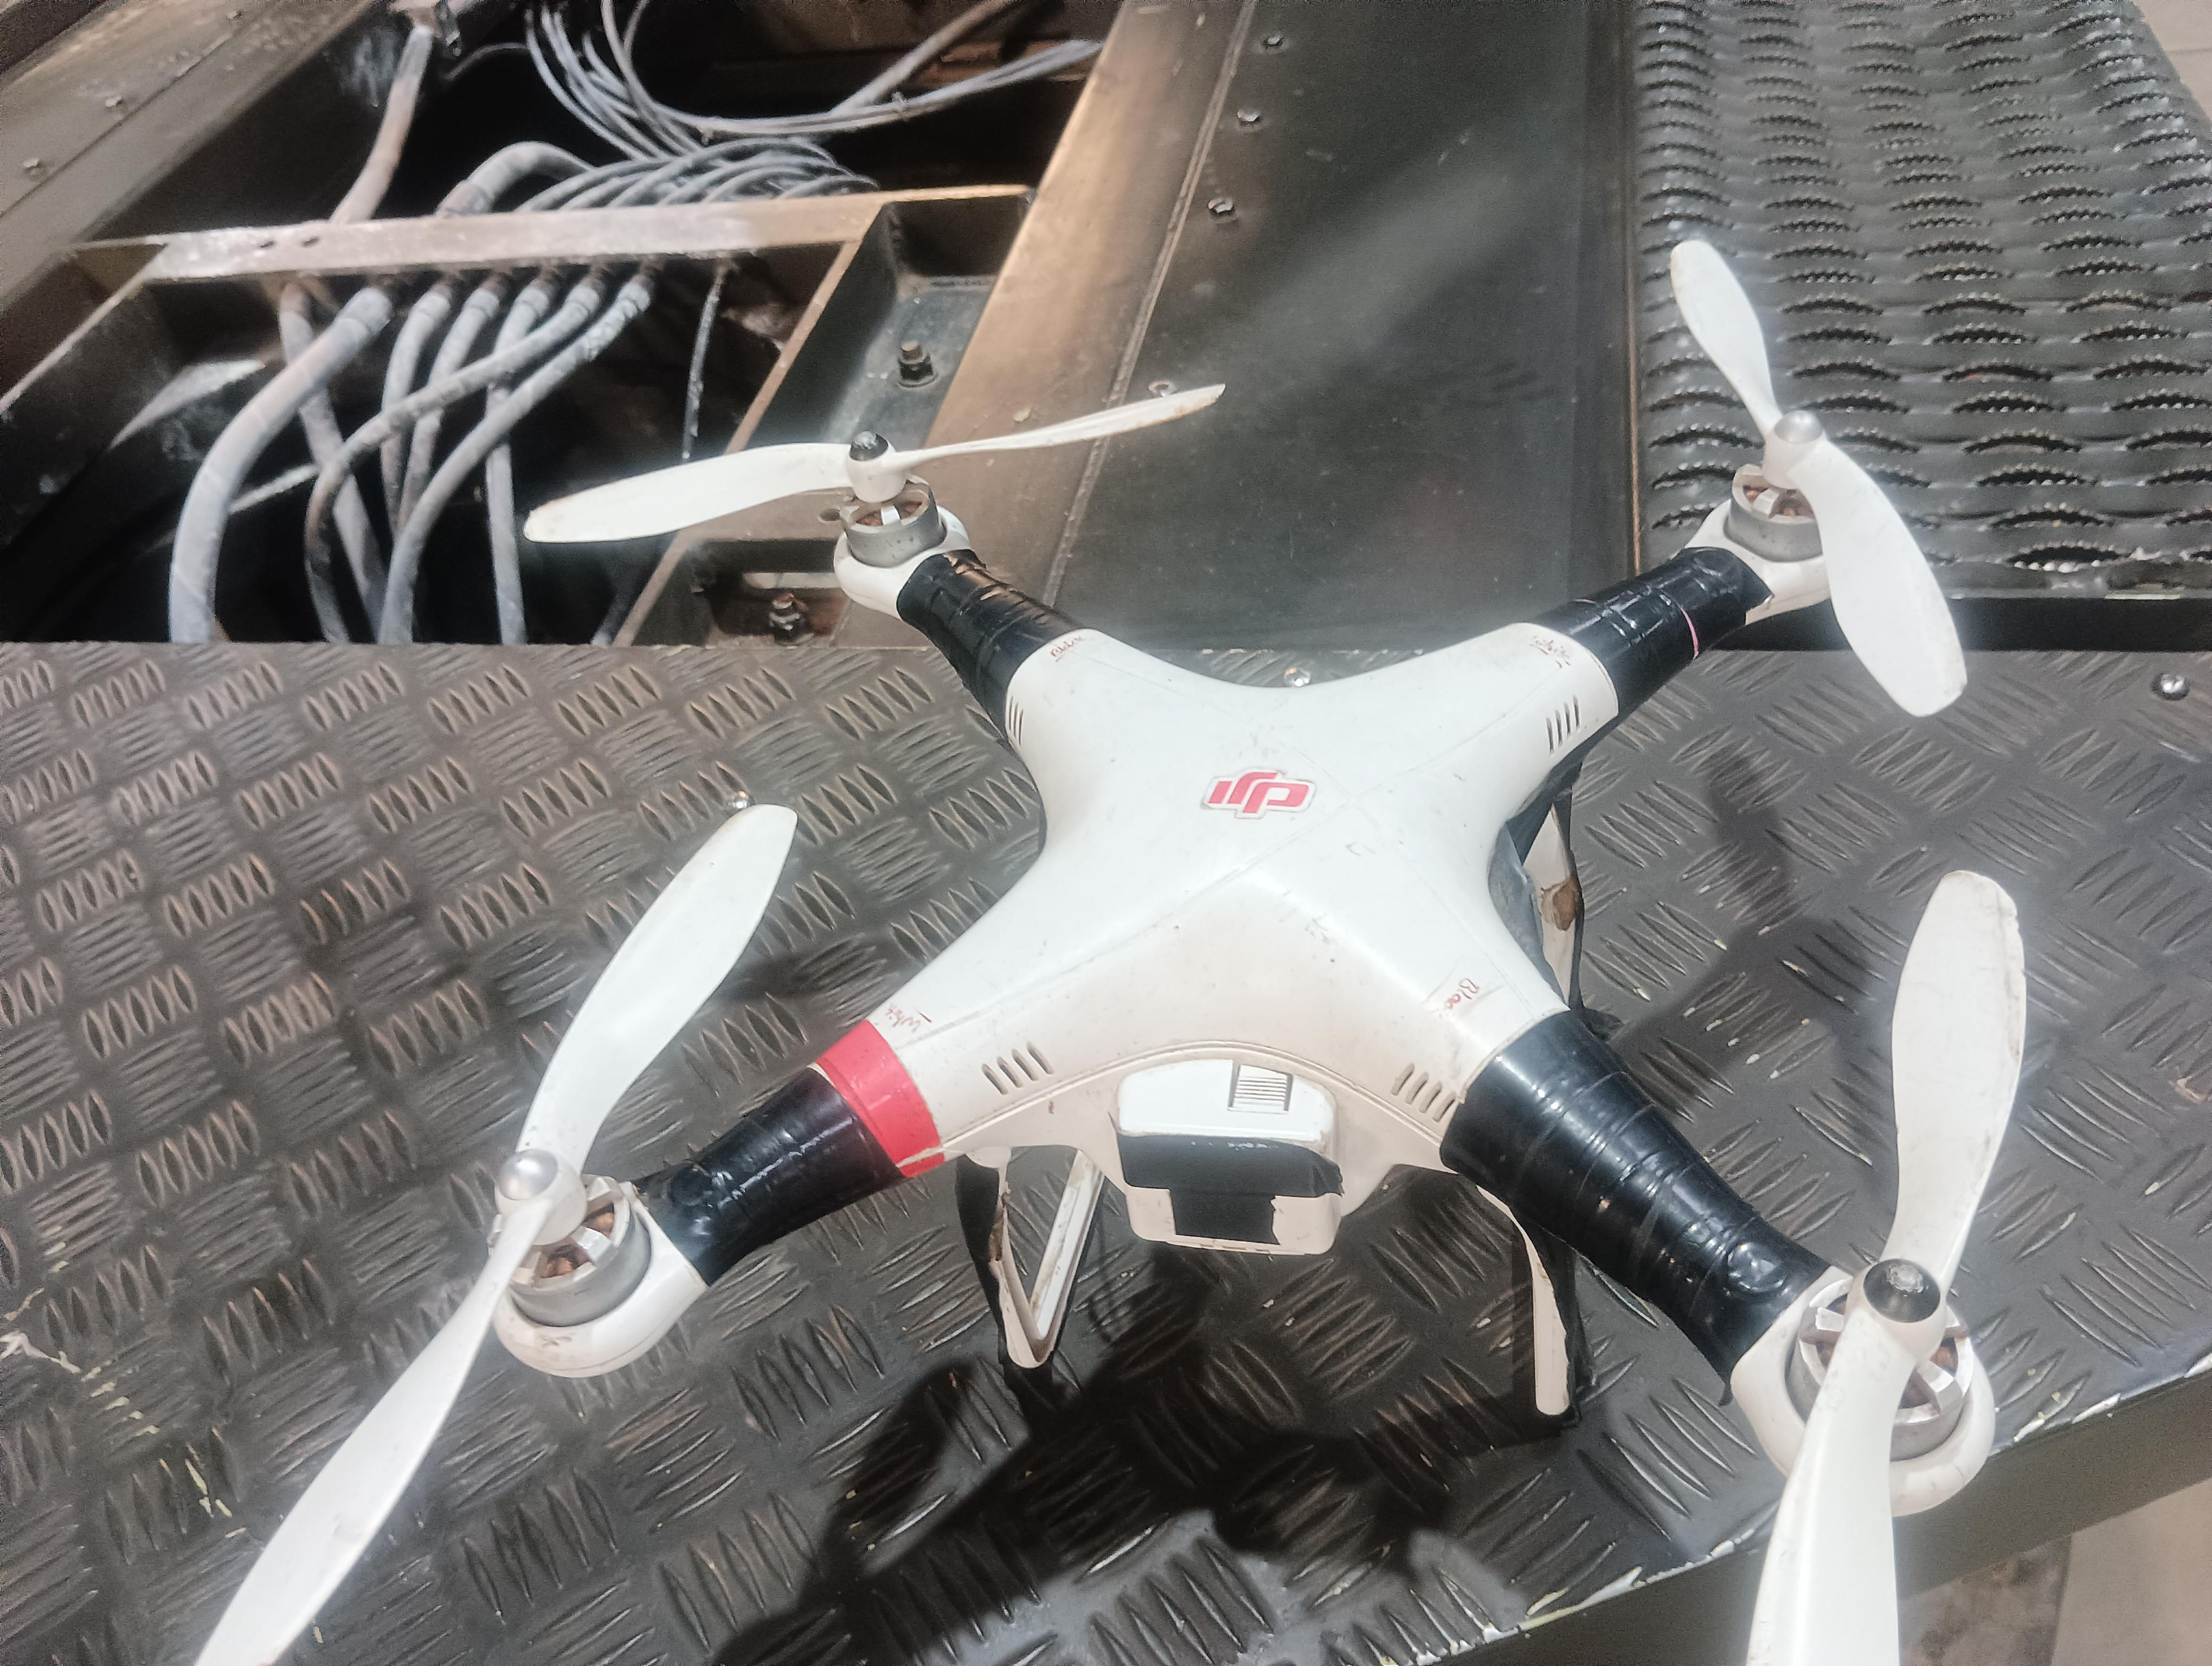drone: (87, 212, 2097, 1666)
